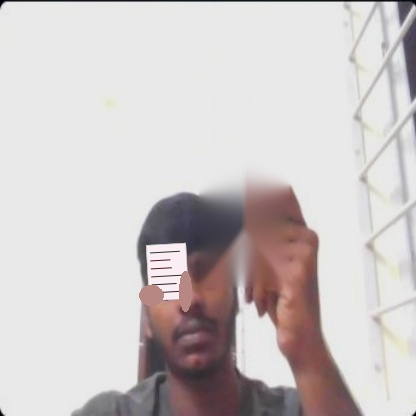cheat_chit: (145, 242, 189, 301)
